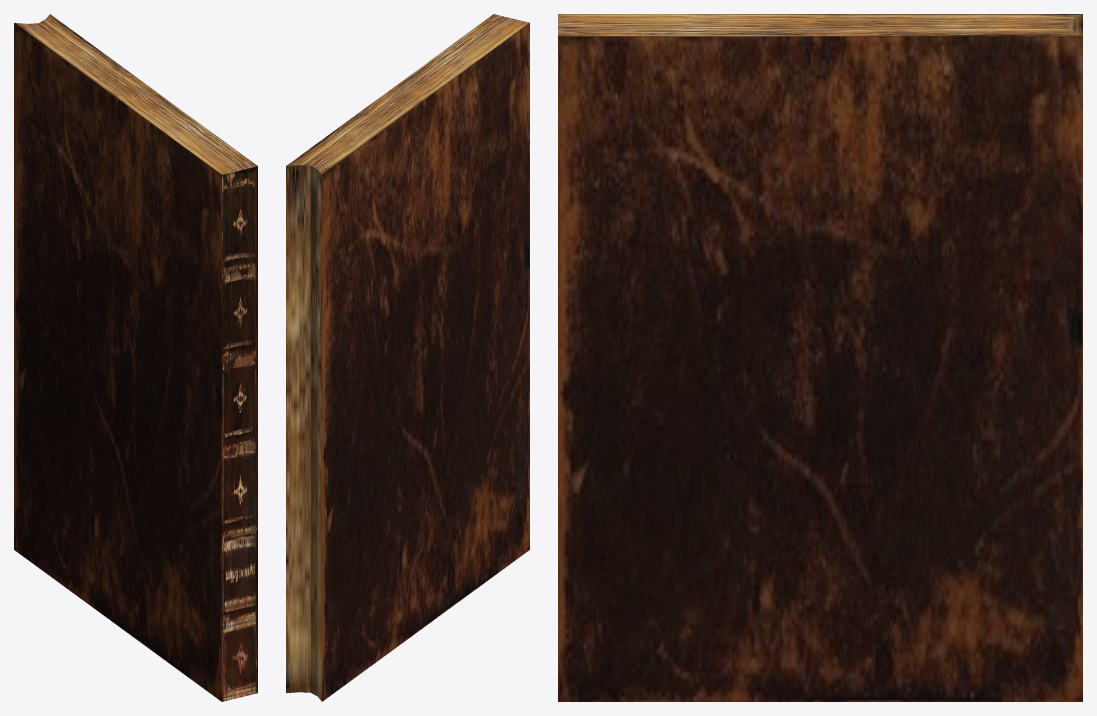
The model's file is book.fbx.
The picture shows the model from 3 angles, left to right: view 1: azimuth 30°, elevation 25°; view 2: azimuth 150°, elevation 25°; view 3: azimuth 270°, elevation 25°; orthographic projection. The views are drawn at different scales.
Visible parts, largest first — view 1: Cube.001; view 2: Cube.001; view 3: Cube.001.
Boxes of the visible parts, <box> form: Cube.001: <box>14,14,257,701</box>; Cube.001: <box>286,14,529,701</box>; Cube.001: <box>558,14,1082,701</box>.
Bounding box in the file's own units: 1.5 × 21 × 15.
